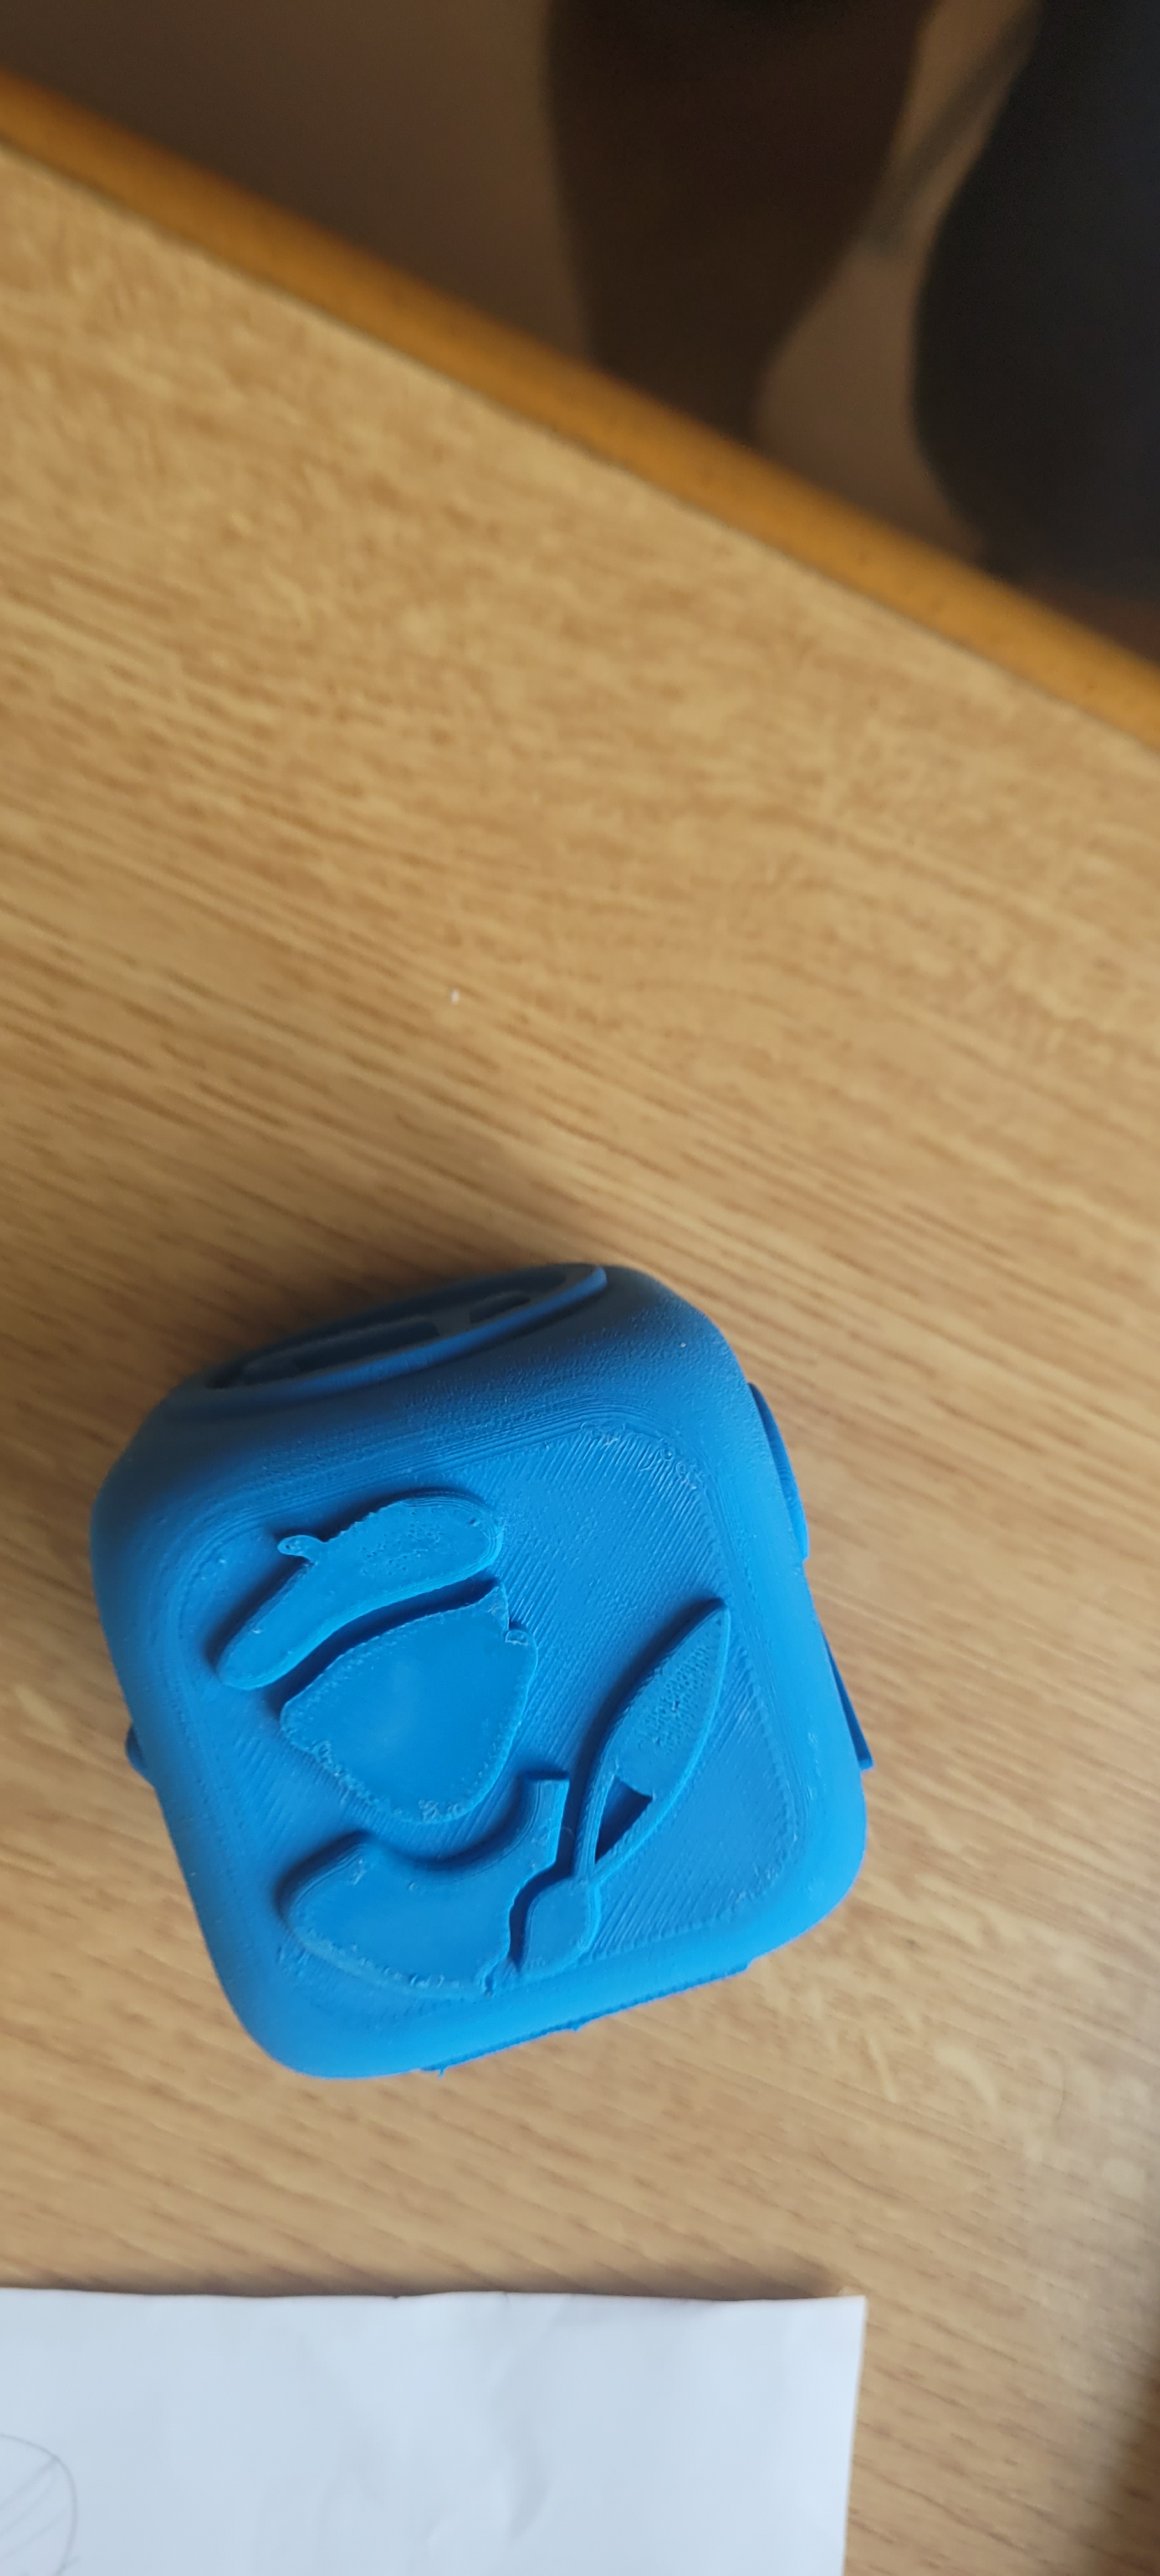Artist_Info: (63, 1386, 897, 2021)
